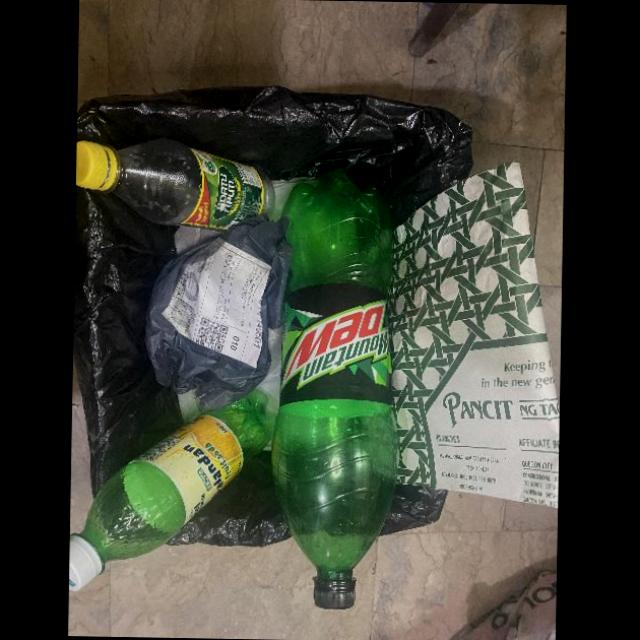chai_nhua: (270, 178, 398, 611), (68, 388, 277, 591), (75, 138, 275, 231)
giay: (388, 161, 559, 507)
tui_ni_long: (144, 213, 293, 410)
